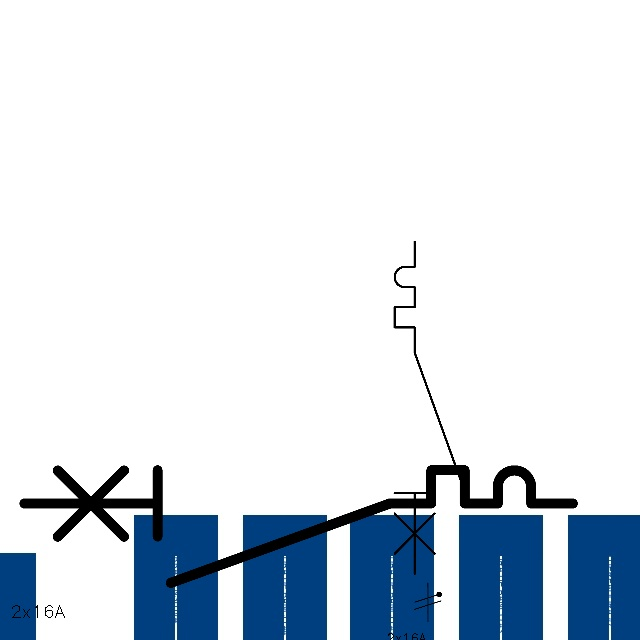interruptor_termomagnetico: (10, 456, 587, 597), (386, 233, 471, 582)
